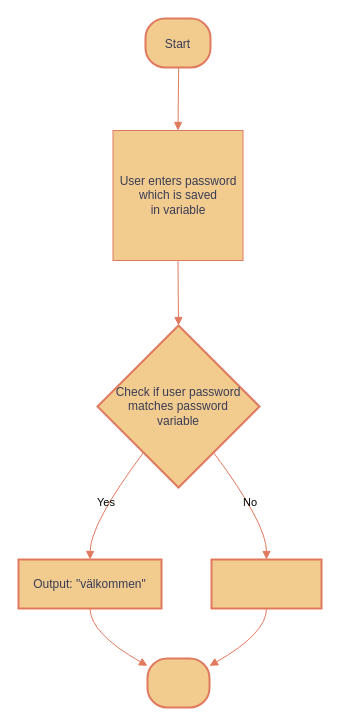
Some shapes in this 339 by 725 pixel diagram are drawn without their labels. Here are the shapes that lost their labels. From the top down, the centre of each, then its label:
point 266,583: Output: "inkräktare"
point 178,682: Stop
